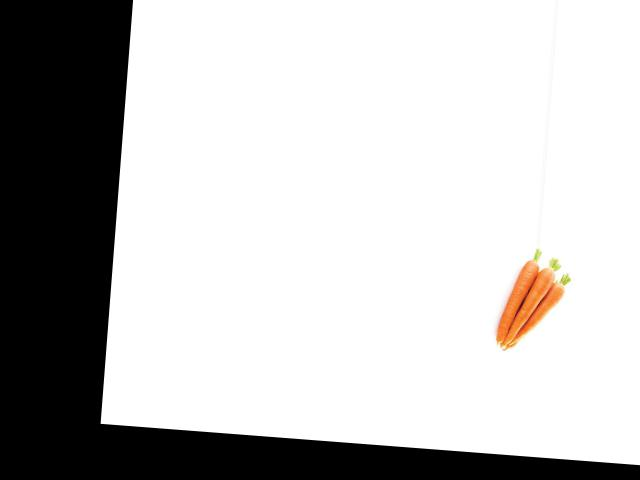carrot: (497, 260, 542, 344)
